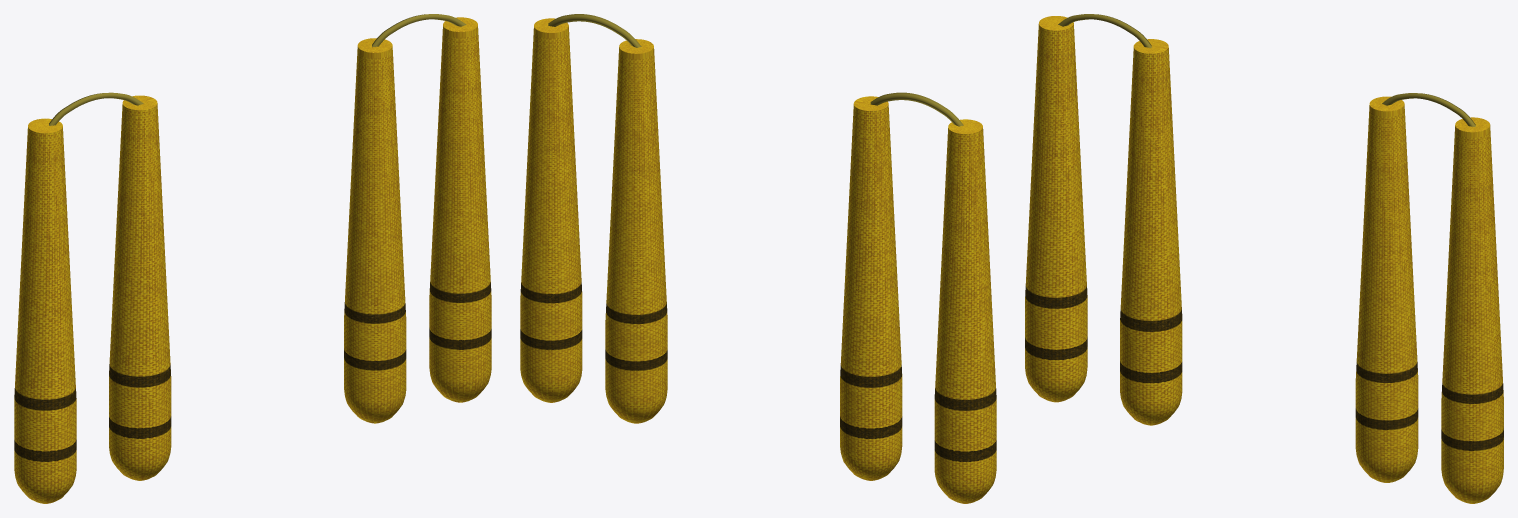
The picture shows the model from 3 angles, left to right: view 1: azimuth 30°, elevation 25°; view 2: azimuth 150°, elevation 25°; view 3: azimuth 330°, elevation 25°; orthographic projection.
Visible parts, largest first — view 1: Cylinder.001, Cylinder.002, Cylinder.003, Cylinder.004, Catenary.002, Catenary.001; view 2: Cylinder.001, Cylinder.002, Cylinder.004, Cylinder.003, Catenary.002, Catenary.001; view 3: Cylinder.002, Cylinder.004, Cylinder.003, Cylinder.001, Catenary.001, Catenary.002.
Boxes of the visible parts, x1=… form: Cylinder.001: x1=14, y1=118, x2=76, y2=503; Cylinder.002: x1=344, y1=38, x2=406, y2=423; Cylinder.003: x1=429, y1=17, x2=491, y2=402; Cylinder.004: x1=109, y1=95, x2=171, y2=480; Catenary.002: x1=49, y1=92, x2=143, y2=125; Catenary.001: x1=372, y1=14, x2=466, y2=47; Cylinder.001: x1=934, y1=119, x2=996, y2=503; Cylinder.002: x1=605, y1=39, x2=667, y2=423; Cylinder.004: x1=840, y1=96, x2=902, y2=480; Cylinder.003: x1=520, y1=18, x2=582, y2=402; Catenary.002: x1=870, y1=92, x2=963, y2=126; Catenary.001: x1=548, y1=14, x2=641, y2=47; Cylinder.002: x1=1355, y1=96, x2=1418, y2=482; Cylinder.004: x1=1120, y1=39, x2=1182, y2=425; Cylinder.003: x1=1441, y1=117, x2=1503, y2=503; Cylinder.001: x1=1025, y1=16, x2=1087, y2=402; Catenary.001: x1=1382, y1=93, x2=1475, y2=126; Catenary.002: x1=1058, y1=14, x2=1151, y2=47.
Size of the model in its own units: 17.35 by 13.96 by 2.
Materials: 3 (2 with a texture image).
